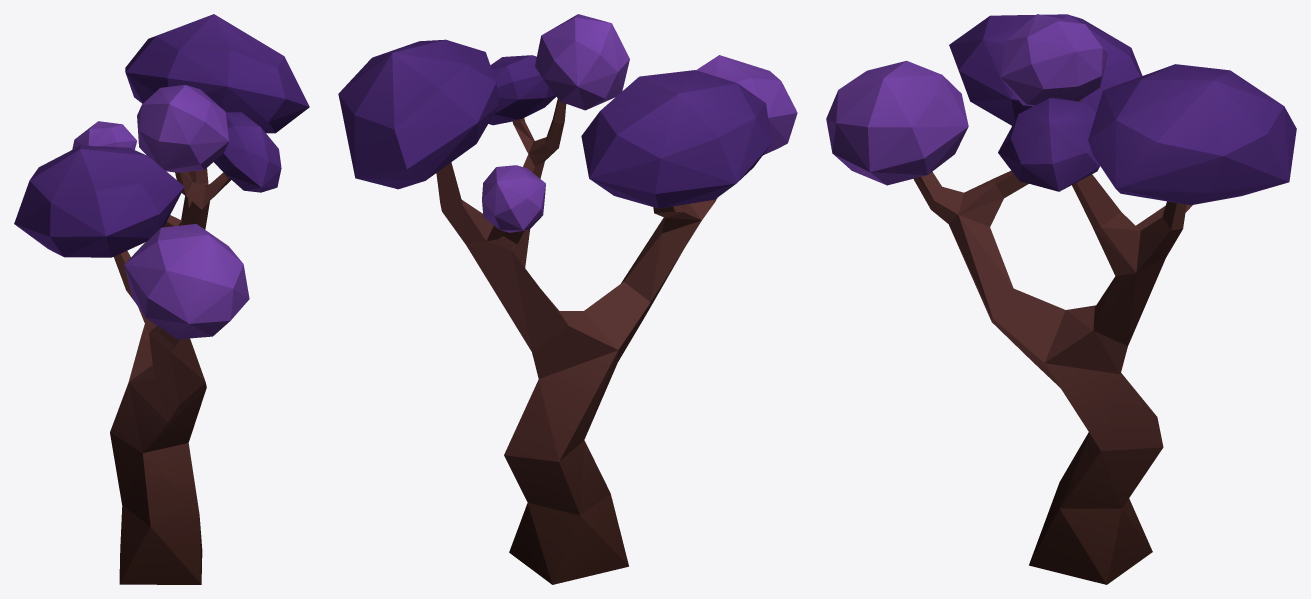
File: MagicTree4.fbx
3 renders of one model, left to right at view 1: azimuth 30°, elevation 25°; view 2: azimuth 150°, elevation 25°; view 3: azimuth 270°, elevation 25°, orthographic. The views are drawn at different scales.
Visible parts, largest first — view 1: MagicTree4; view 2: MagicTree4; view 3: MagicTree4.
Part boxes in pixels (x1,y1,x2,y2): MagicTree4: (14, 14, 309, 584); MagicTree4: (338, 14, 797, 584); MagicTree4: (826, 14, 1296, 584).
Bounding box in the file's own units: 285 × 429 × 337.
